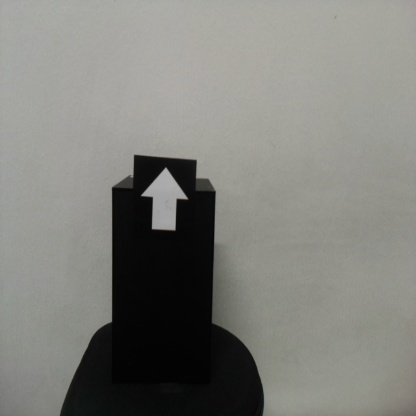id_1: (134, 160, 195, 249)
